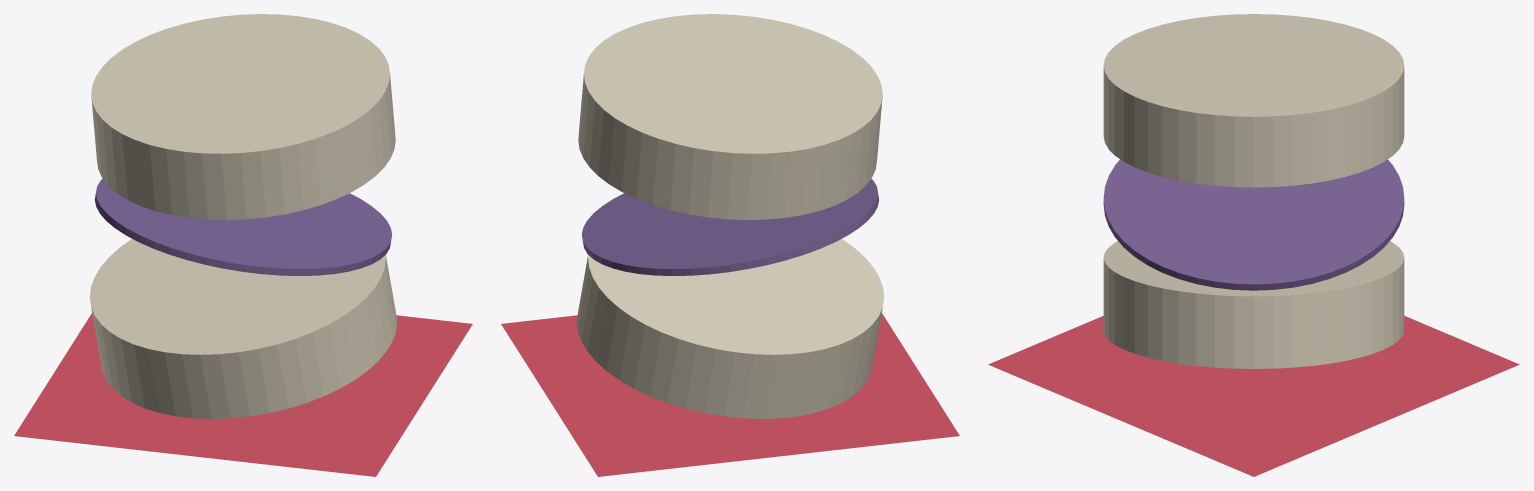
Rendered from VUV.glb.
3 views of the same model, side by side, from view 1: azimuth 30°, elevation 25°; view 2: azimuth 150°, elevation 25°; view 3: azimuth 270°, elevation 25° (orthographic).
Parts seen in each view (by area): view 1: Mesh_Mesh_head_geo.001_lambert2SG.001; view 2: Mesh_Mesh_head_geo.001_lambert2SG.001; view 3: Mesh_Mesh_head_geo.001_lambert2SG.001.
Boxes of the visible parts, bbox=[...] form: Mesh_Mesh_head_geo.001_lambert2SG.001: bbox=[14, 14, 472, 476]; Mesh_Mesh_head_geo.001_lambert2SG.001: bbox=[501, 14, 959, 476]; Mesh_Mesh_head_geo.001_lambert2SG.001: bbox=[988, 14, 1519, 476].
Size of the model in its own units: 0.0354 by 0.0227 by 0.0354.
